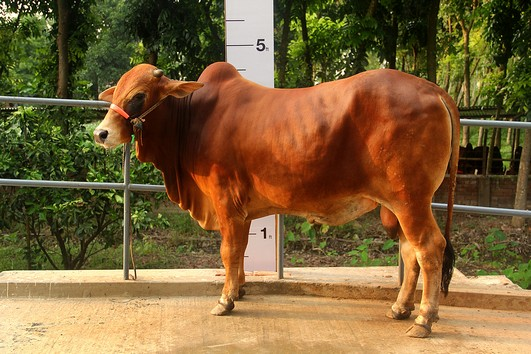cow: (88, 51, 468, 341)
